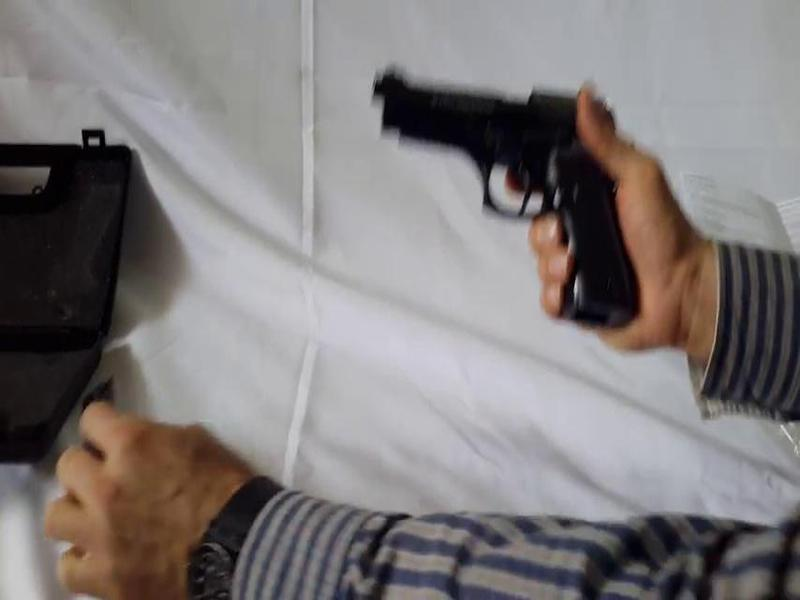Pistola: (343, 45, 681, 340)
